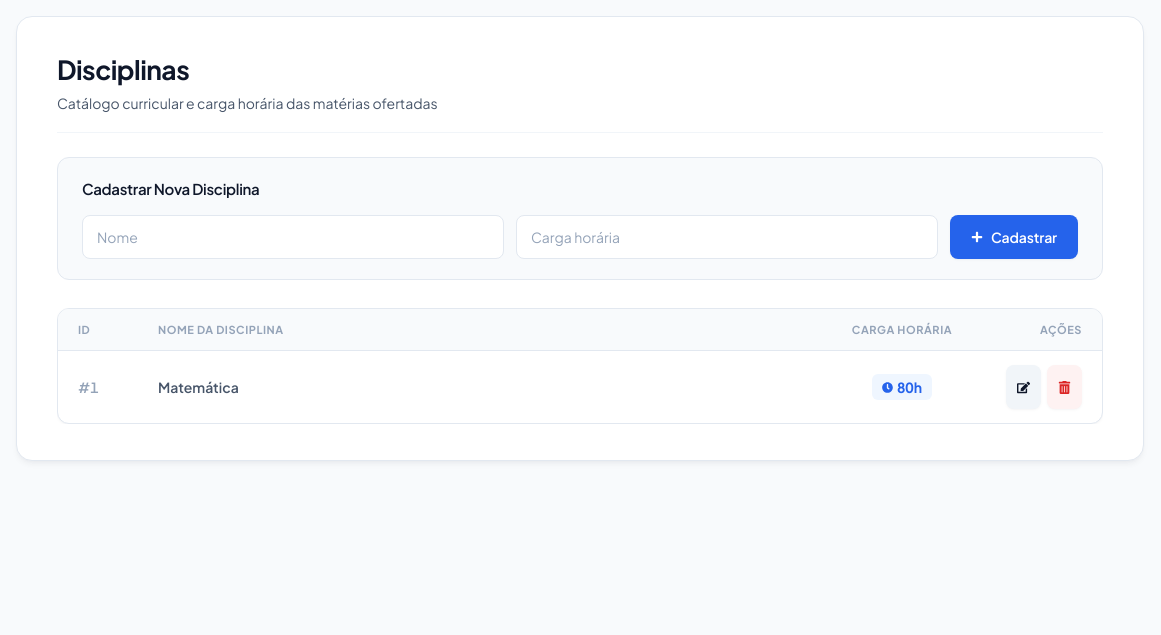
Test: Disciplinas Page › deve permitir excluir uma disciplina existente via DELETE /disciplinas/:id
Check: the text "Matemática" is shown, box [138, 351, 822, 423]
Click the button titled "Excluir disciplina" at (1064, 387), box [1047, 365, 1082, 409]
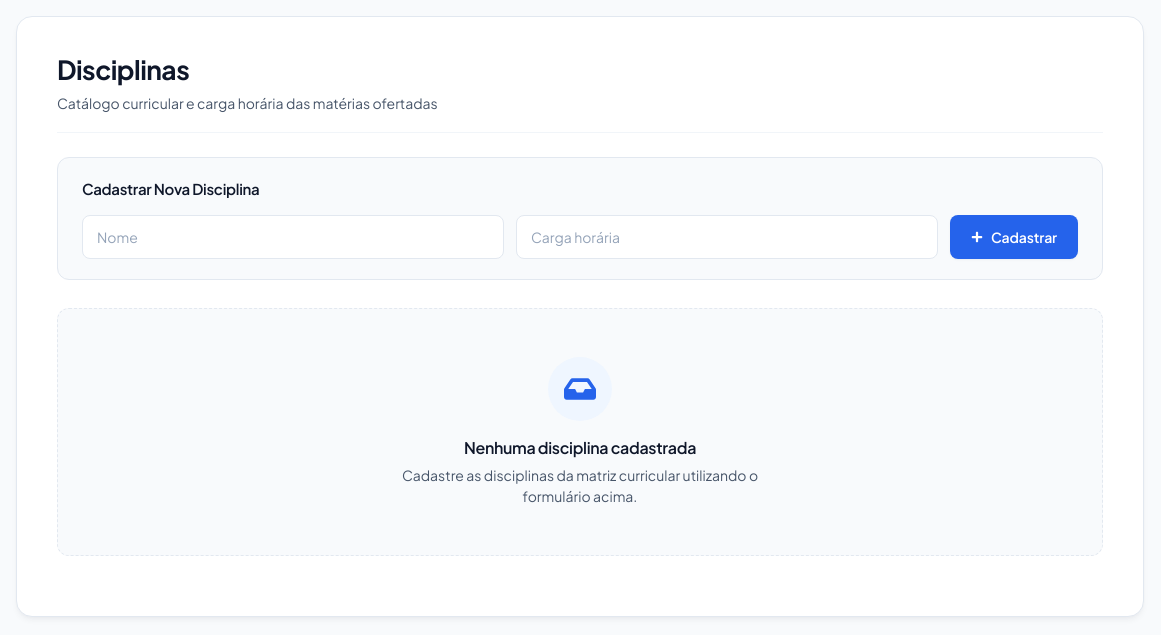
Check: the text "Matemática" is gone
